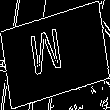M_S: (36, 26, 74, 84)
